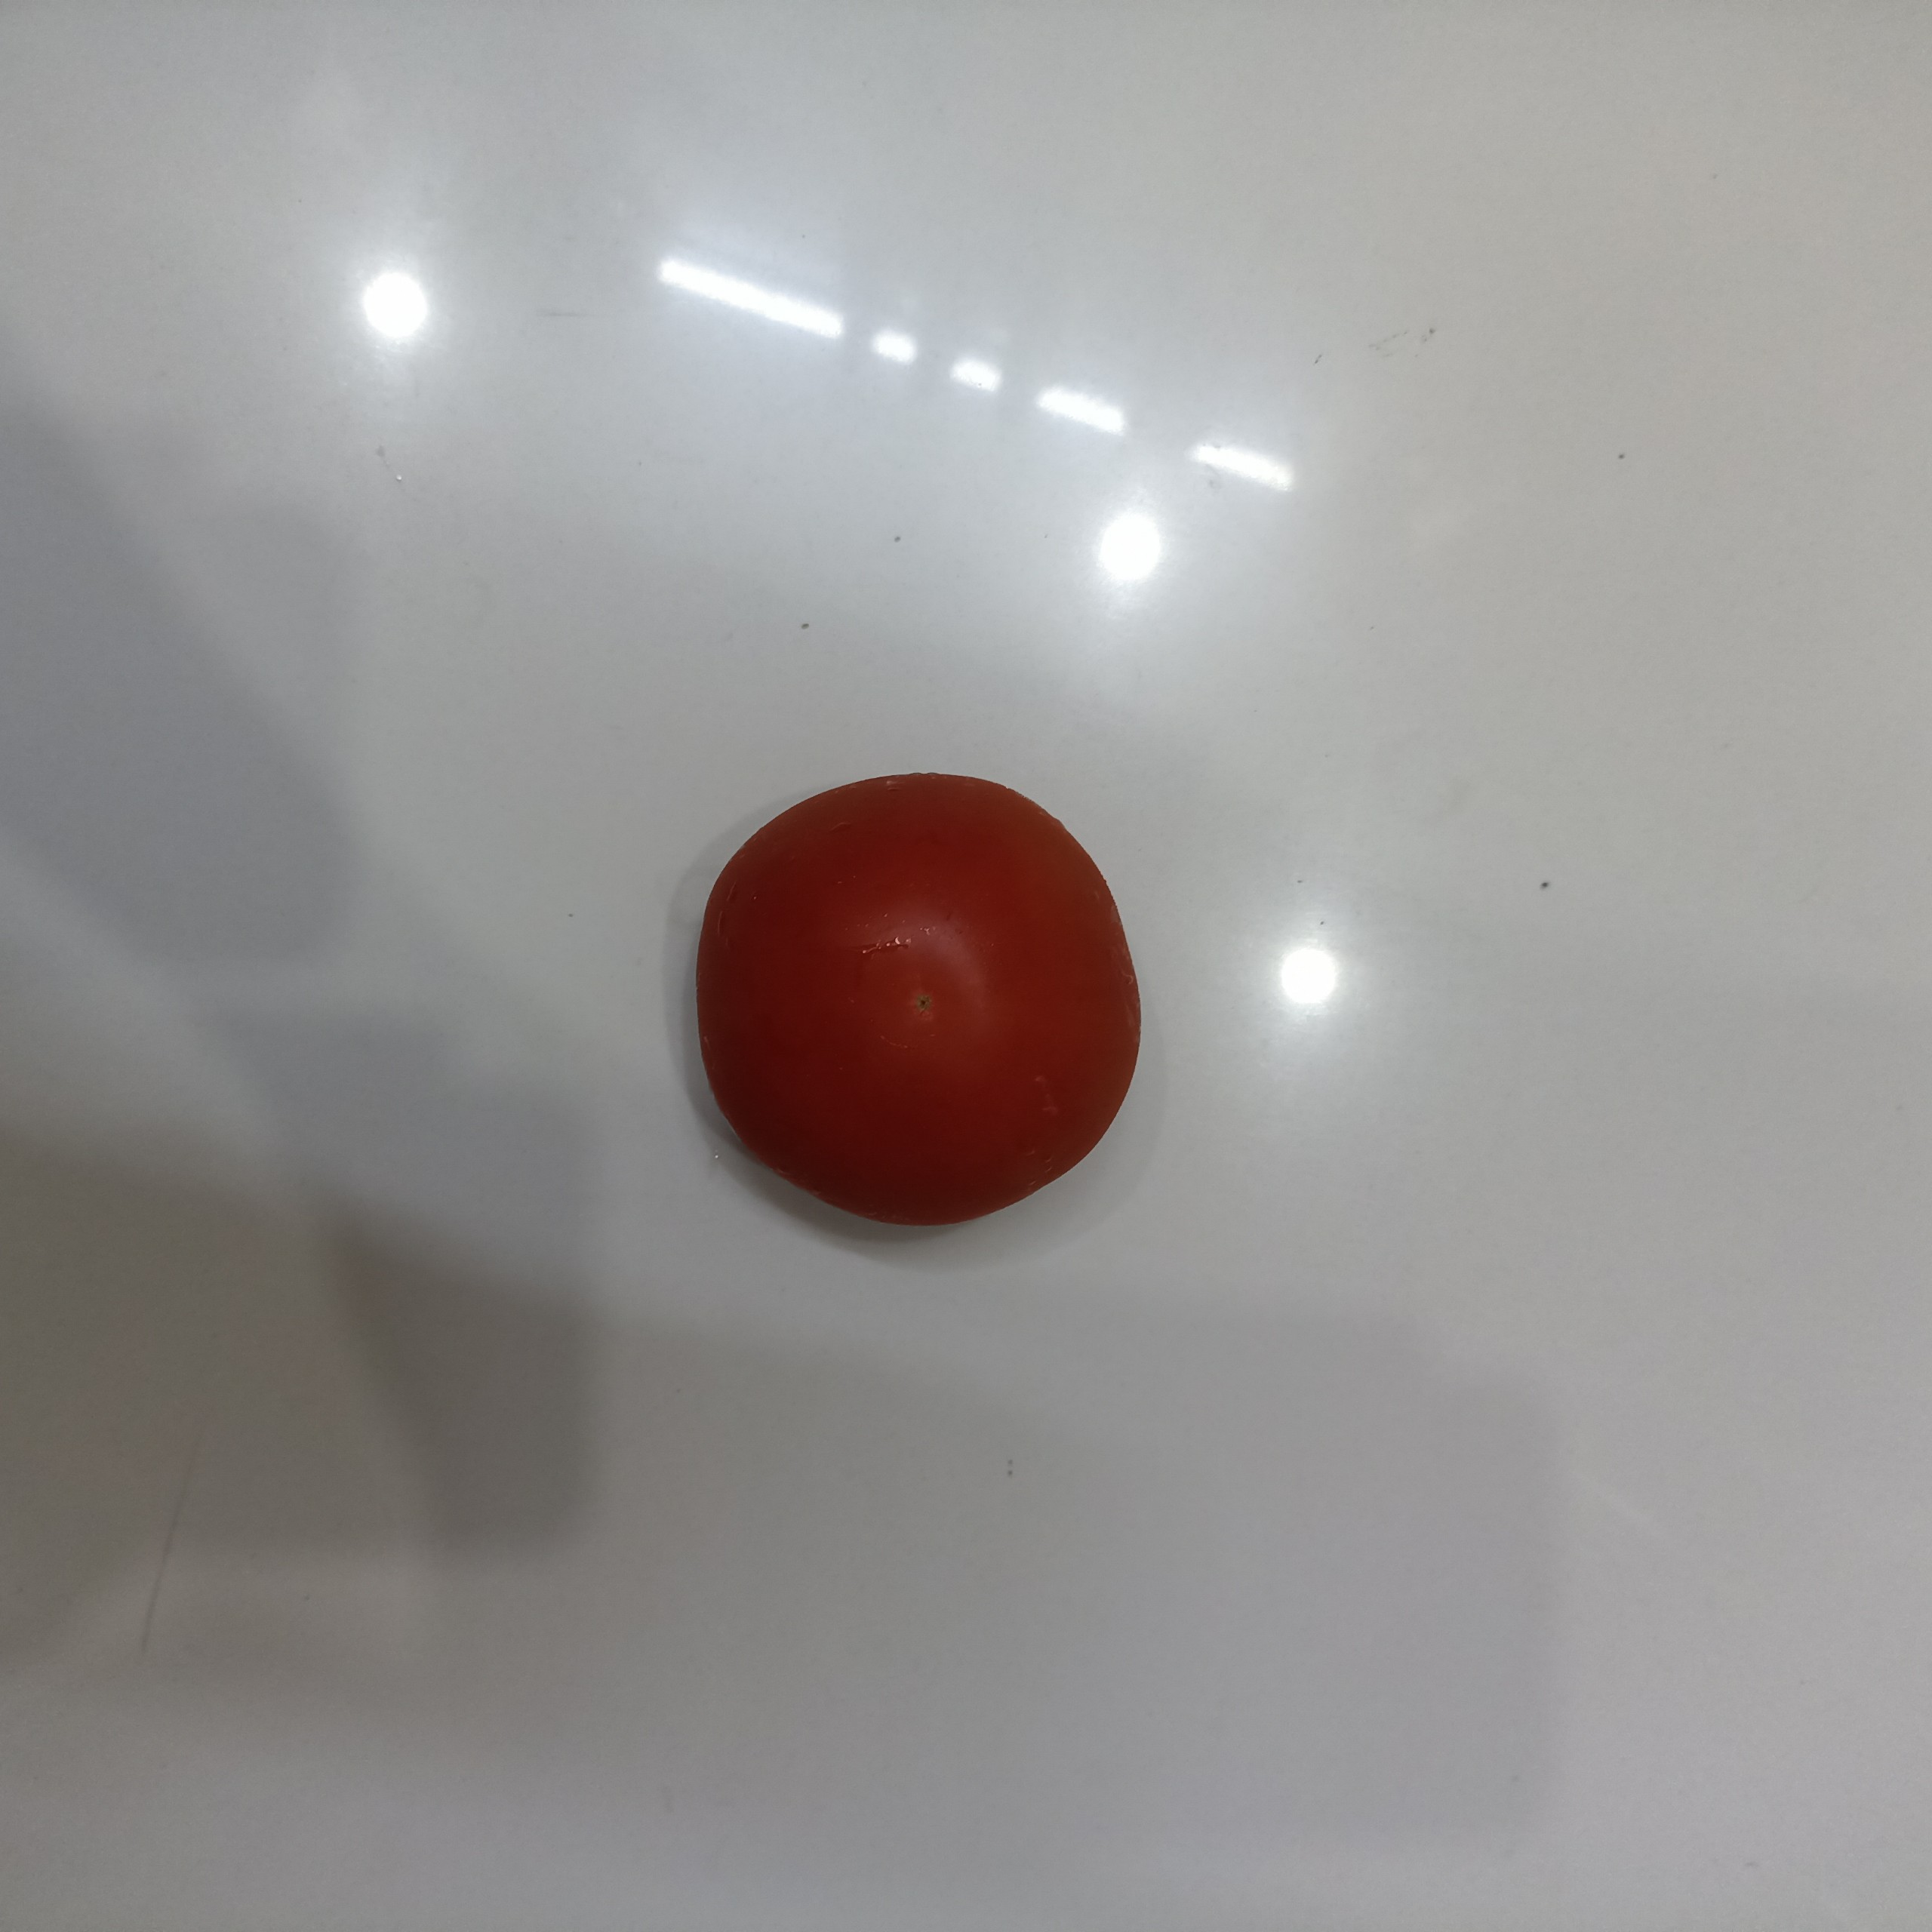Ca chua: (694, 769, 1143, 1232)
